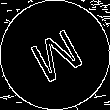M_SE: (23, 21, 87, 89)
